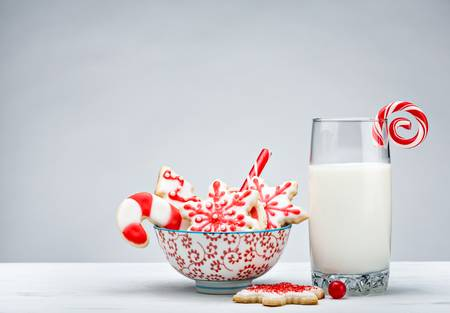glass of milk: (308, 111, 396, 302)
